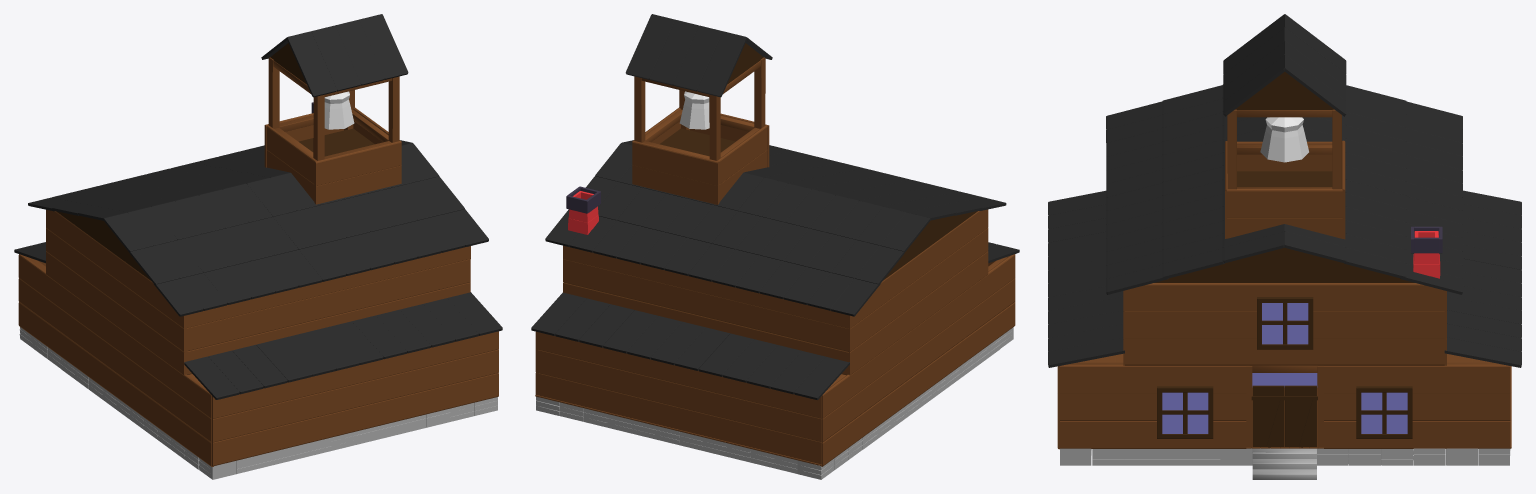
Rendered from SM_TownHall.fbx.
The picture shows the model from 3 angles, left to right: view 1: azimuth 30°, elevation 25°; view 2: azimuth 150°, elevation 25°; view 3: azimuth 270°, elevation 25°; orthographic projection. The views are drawn at different scales.
Parts seen in each view (by area): view 1: SM_TownHall; view 2: SM_TownHall; view 3: SM_TownHall.
Boxes of the visible parts, x1,y1,x2,y2 form: SM_TownHall: (14,14,502,479); SM_TownHall: (531,14,1019,479); SM_TownHall: (1048,14,1521,479).
Size of what is drawn, in the model's own units: 1358 by 1474 by 1328.
